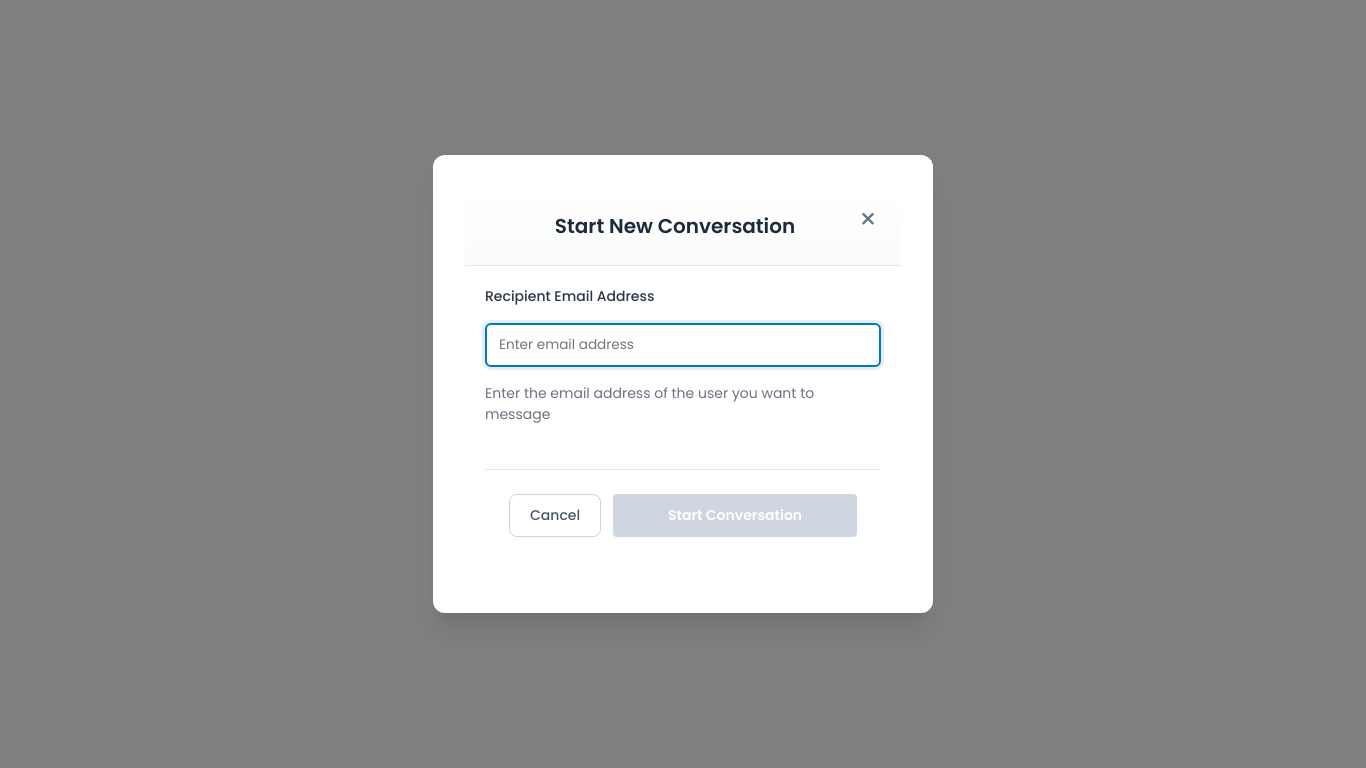
Scenario: NewConversationModal › displays generic error on network failure
Type "test@test.com" into the field labelled "Recipient Email Address" at (683, 345), box [485,323,881,367]
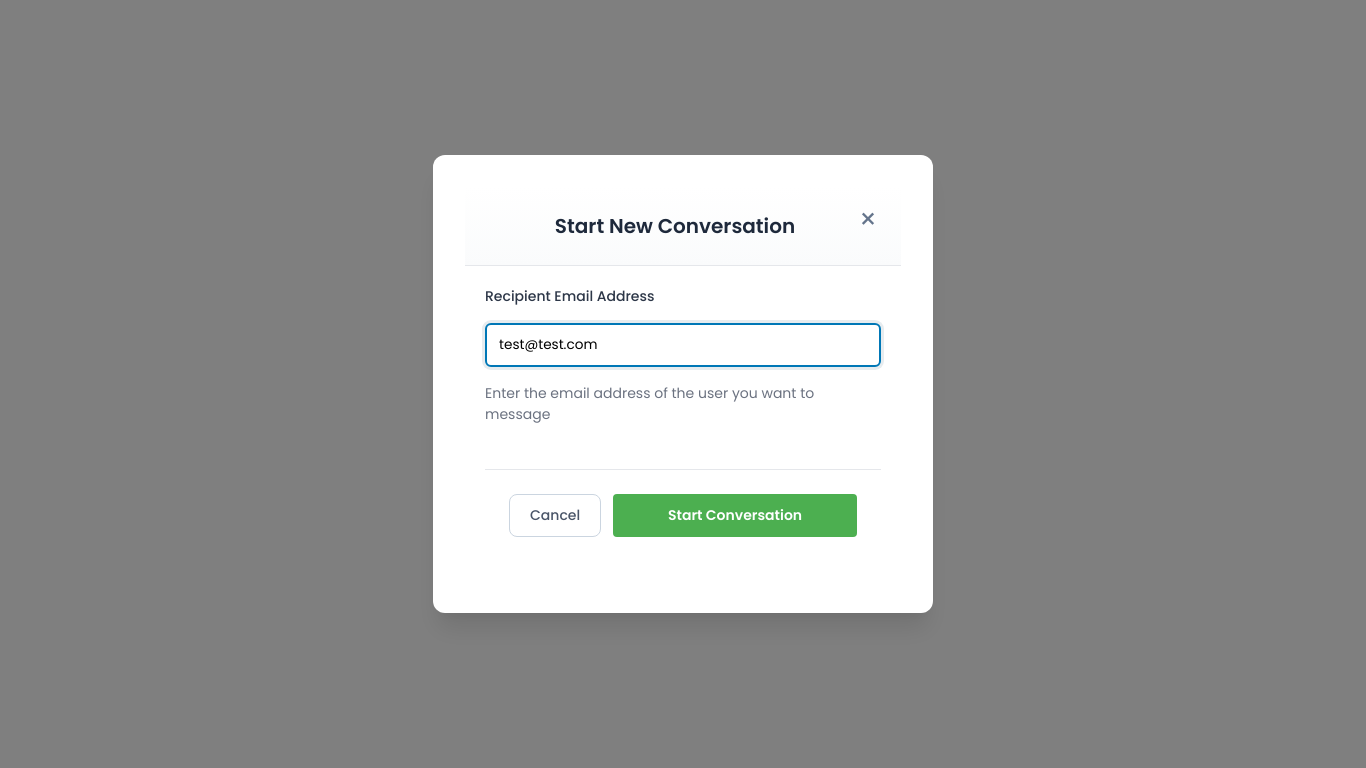
Click the button "Start Conversation" at (735, 516), box [613,494,857,537]
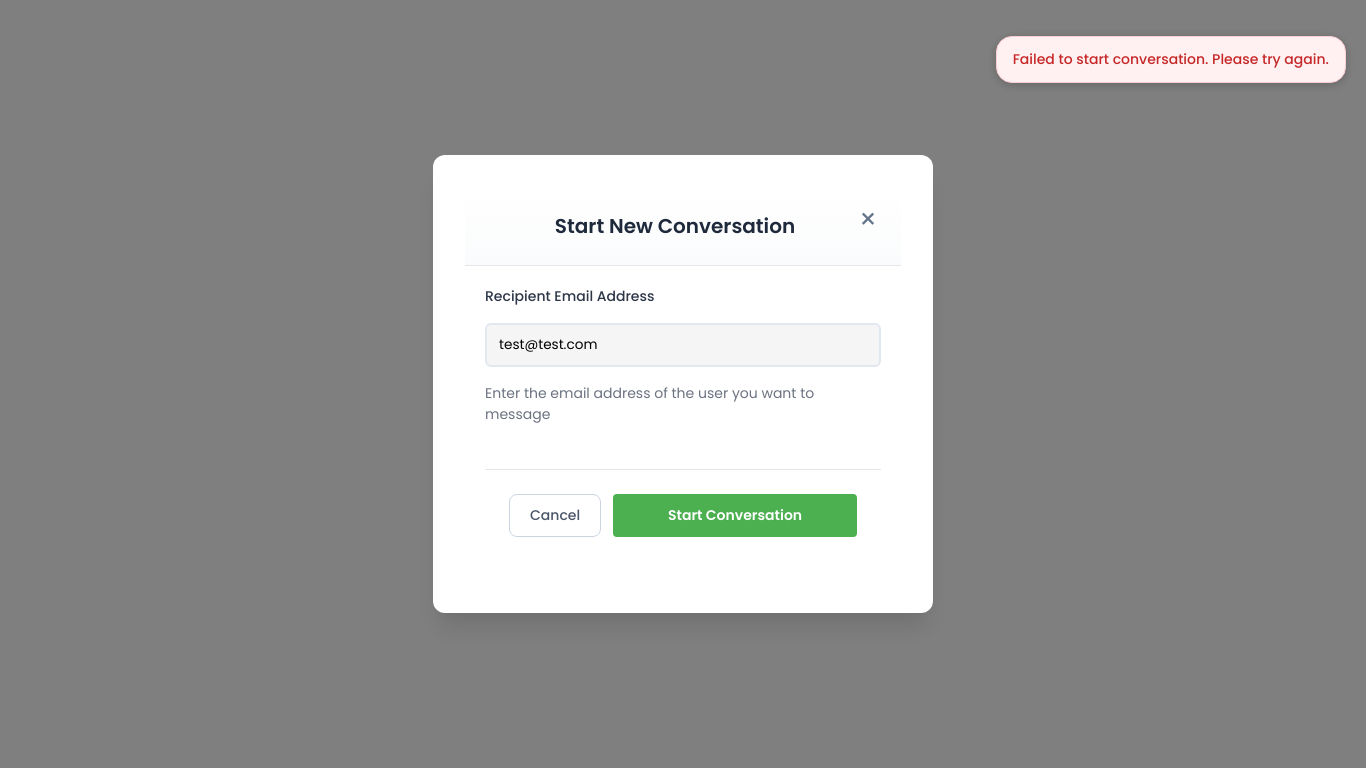
Check: the text "Failed to start conversation. Please try again." is shown, box [996,36,1346,83]
